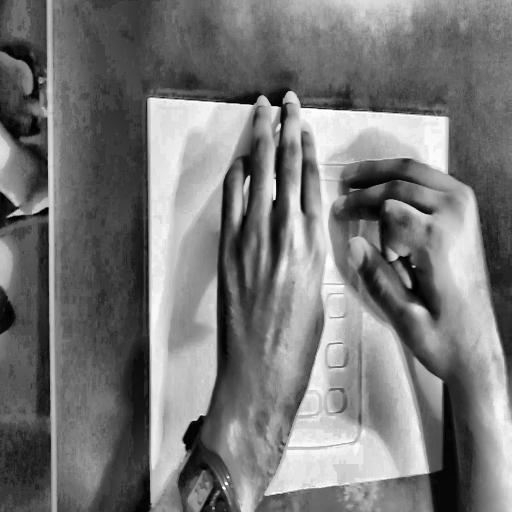bottom_left: (148, 497, 156, 509)
bottom_right: (439, 463, 446, 475)
mobile: (251, 129, 369, 459)
top_left: (145, 93, 152, 105)
top_right: (445, 112, 452, 125)
